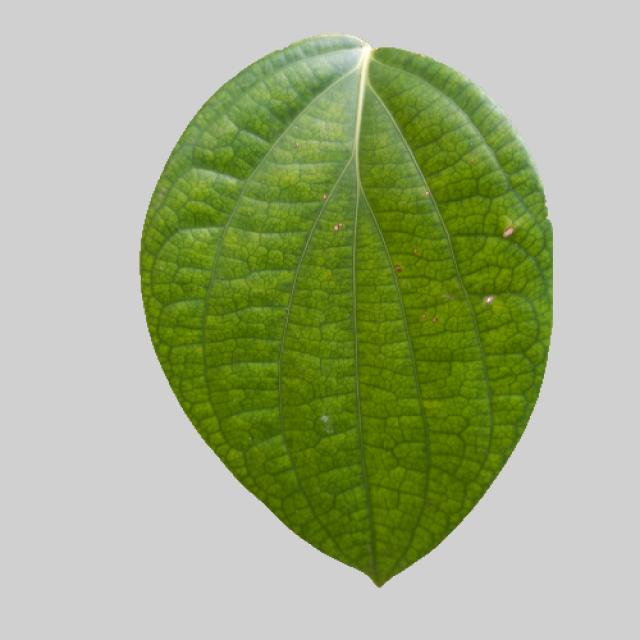healthy: (141, 28, 560, 594)
